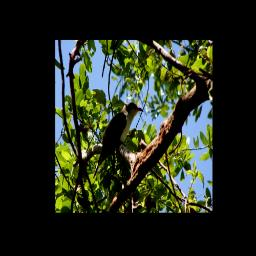Cuckoo: (94, 102, 145, 179)
